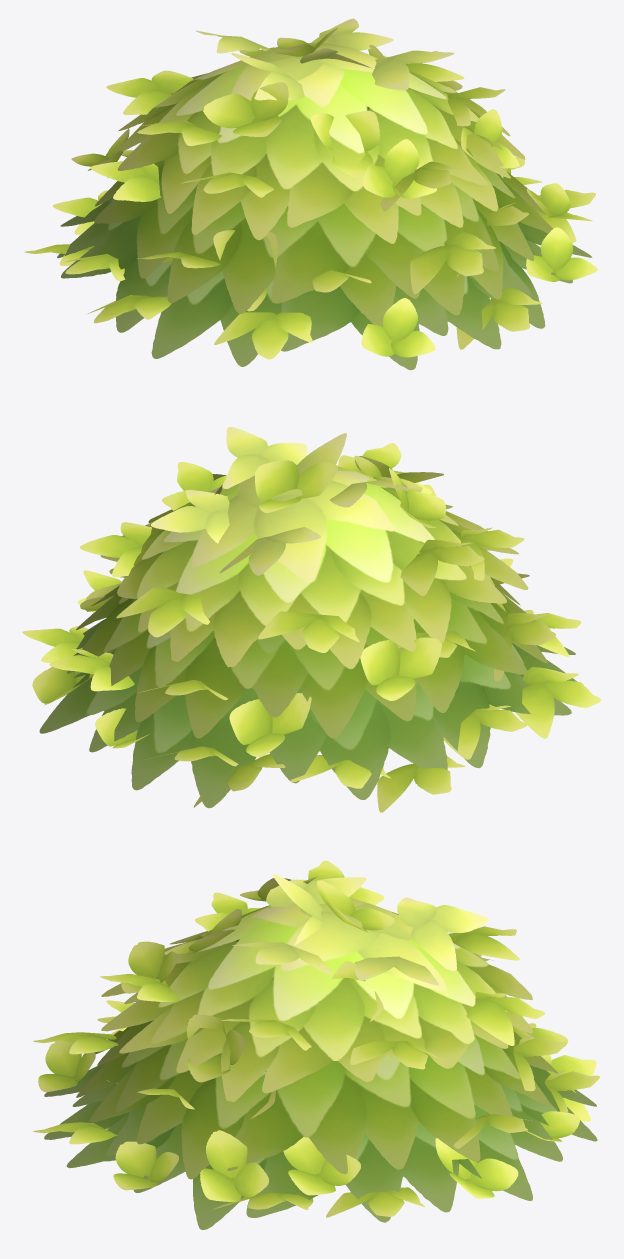
The model's file is bush.fbx.
The picture shows the model from 3 angles, top to bottom: view 1: azimuth 30°, elevation 25°; view 2: azimuth 150°, elevation 25°; view 3: azimuth 270°, elevation 25°; orthographic projection. The views are drawn at different scales.
Visible parts, largest first — view 1: pPlane1; view 2: pPlane1; view 3: pPlane1.
Part boxes in pixels (x1,y1,x2,y2): pPlane1: (24,18,597,370); pPlane1: (22,427,600,812); pPlane1: (33,860,599,1229).
Bounding box in the file's own units: 5.82 × 2.78 × 5.74.
